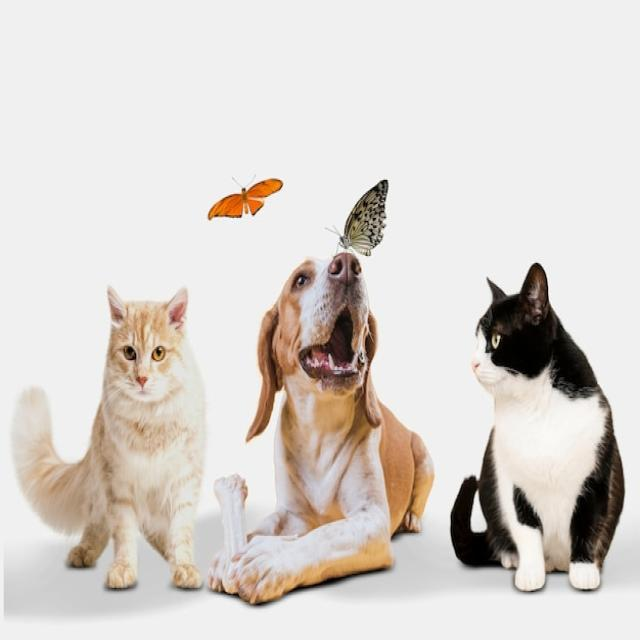Dog: (213, 248, 434, 608)
